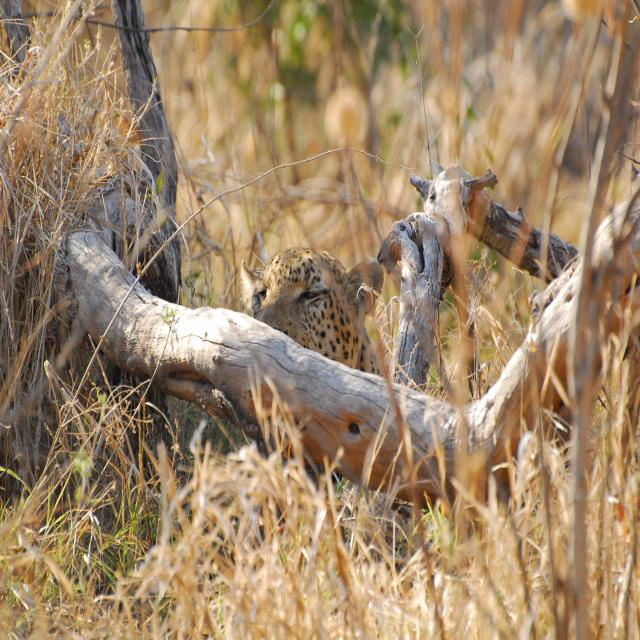Leopard: (240, 257, 380, 383)
